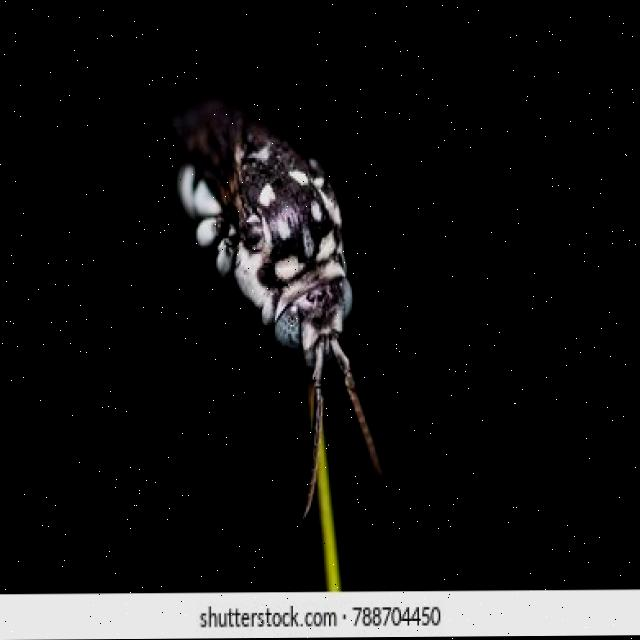Thyreus: (154, 85, 398, 528)
